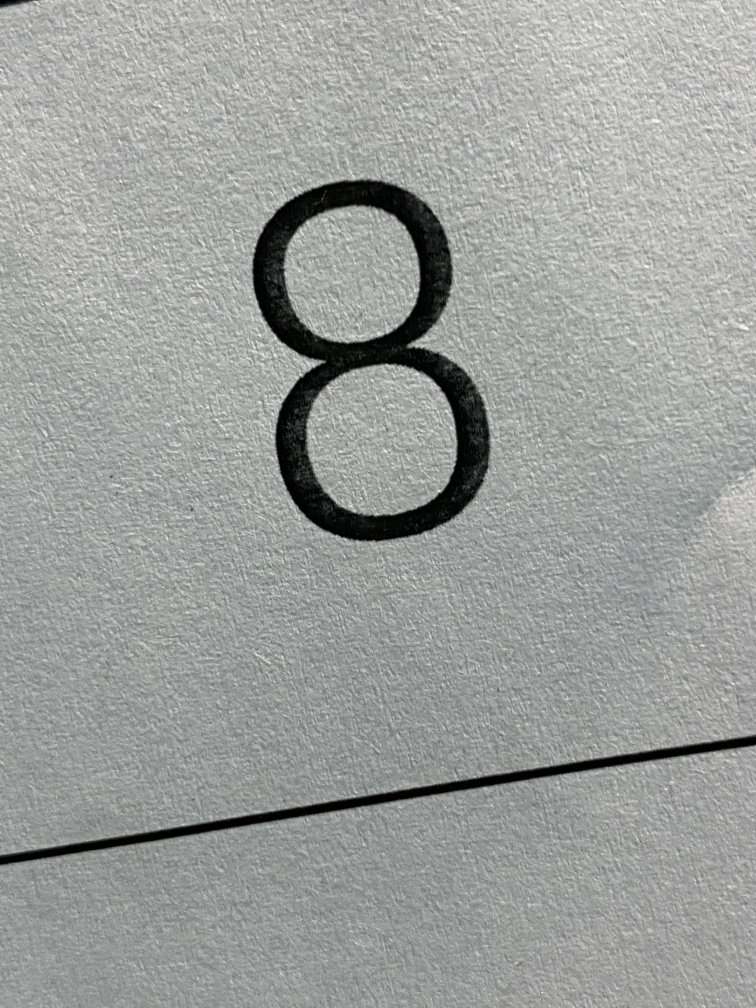eight: (181, 116, 566, 609)
